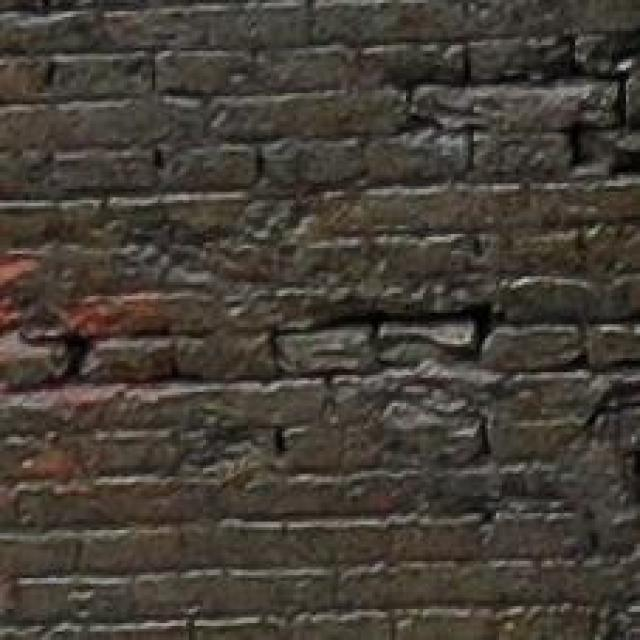Crack: (0, 105, 640, 556)
